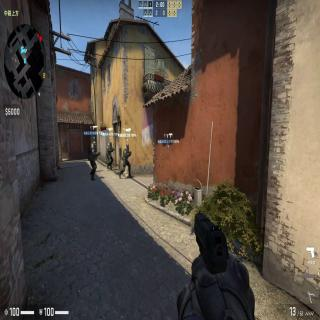CT-Body: (118, 142, 133, 178), (88, 142, 99, 182), (106, 141, 113, 170)
CT-Head: (125, 143, 130, 149), (92, 143, 96, 149), (108, 141, 112, 146)
